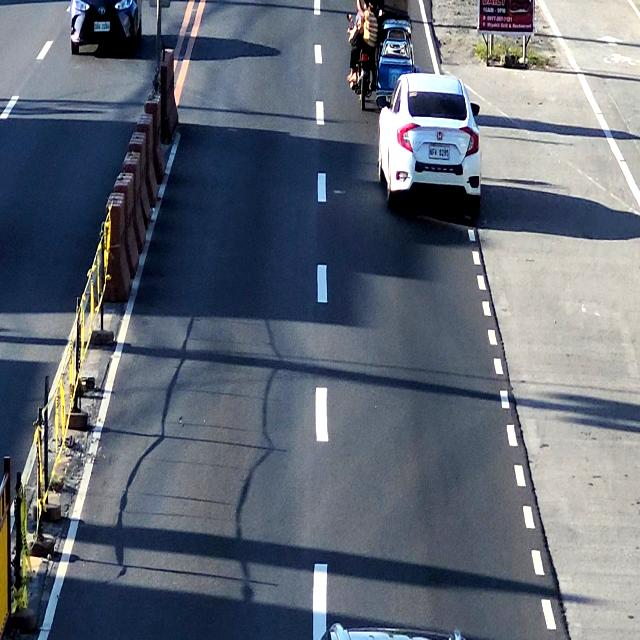Car: (377, 73, 485, 213)
License-Plate: (428, 146, 452, 162)
Tricycle: (354, 0, 413, 95)
